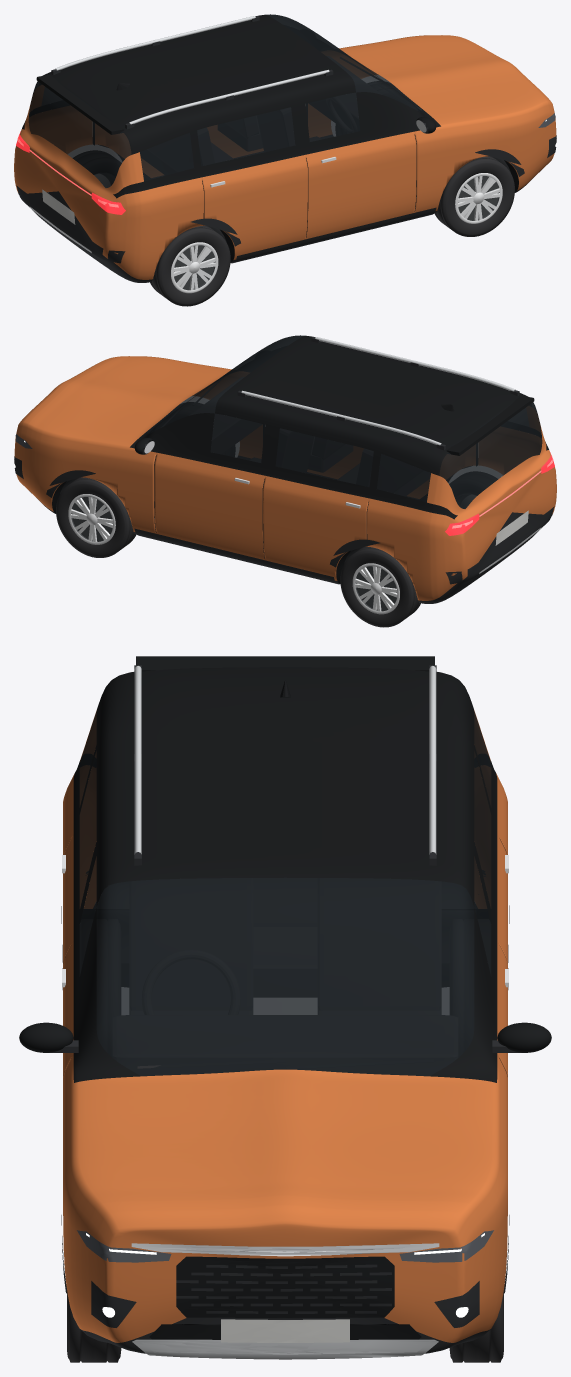
Rendered from honda-elevate-model.glb.
3 renders of one model, top to bottom at view 1: azimuth 30°, elevation 25°; view 2: azimuth 150°, elevation 25°; view 3: azimuth 270°, elevation 25°, orthographic. The views are drawn at different scales.
Parts seen in each view (by area): view 1: Body, Wheel.004, Wheel.002, SeatBack.002, SillCladding.001, SeatBack.001, RearBumper, Spoiler, Dashboard, Wheel.003, RoofRail, RoofRail.001 (+8 smaller); view 2: Body, Wheel.003, Wheel.001, SeatBack.002, Dashboard, SillCladding, SeatBack, RearBumper, Spoiler, Wheel.004, RoofRail.001, RoofRail (+8 smaller); view 3: Body, Dashboard, SeatBack, SeatBack.001, Grille, Silver0, SeatBase.002, Spoiler, Wheel.004, Wheel.003, SeatBack.002, PlateFront (+12 smaller).
Boxes of the visible parts, left/top/right/bottom form: Body: left=14, top=14, right=556, bottom=282; Wheel.004: left=150, top=225, right=230, bottom=306; Wheel.002: left=434, top=156, right=514, bottom=236; SeatBack.002: left=147, top=128, right=214, bottom=171; SillCladding.001: left=230, top=207, right=436, bottom=263; SeatBack.001: left=257, top=108, right=294, bottom=151; RearBumper: left=16, top=185, right=125, bottom=263; Spoiler: left=36, top=74, right=124, bottom=134; Dashboard: left=309, top=56, right=379, bottom=131; Wheel.003: left=73, top=151, right=121, bottom=187; RoofRail: left=55, top=16, right=255, bottom=70; RoofRail.001: left=129, top=69, right=329, bottom=124; Body: left=14, top=335, right=556, bottom=603; Wheel.003: left=340, top=546, right=420, bottom=627; Wheel.001: left=56, top=477, right=136, bottom=557; SeatBack.002: left=356, top=449, right=423, bottom=492; Dashboard: left=191, top=377, right=261, bottom=454; SillCladding: left=134, top=528, right=340, bottom=584; SeatBack: left=276, top=429, right=313, bottom=472; RearBumper: left=445, top=506, right=554, bottom=584; Spoiler: left=446, top=395, right=534, bottom=455; Wheel.004: left=449, top=472, right=497, bottom=508; RoofRail.001: left=315, top=337, right=515, bottom=391; RoofRail: left=241, top=390, right=441, bottom=445; Body: left=63, top=667, right=507, bottom=1353; Dashboard: left=113, top=1015, right=457, bottom=1075; SeatBack: left=318, top=878, right=440, bottom=1009; SeatBack.001: left=130, top=878, right=252, bottom=1009; Grille: left=176, top=1256, right=394, bottom=1318; Silver0: left=132, top=1339, right=438, bottom=1359; SeatBase.002: left=254, top=927, right=316, bottom=996; Spoiler: left=136, top=656, right=434, bottom=671; Wheel.004: left=80, top=919, right=120, bottom=1056; Wheel.003: left=450, top=919, right=490, bottom=1056; SeatBack.002: left=254, top=878, right=316, bottom=926; PlateFront: left=221, top=1319, right=349, bottom=1342.
Bounding box in the file's own units: 4.26 × 1.68 × 2.15.
